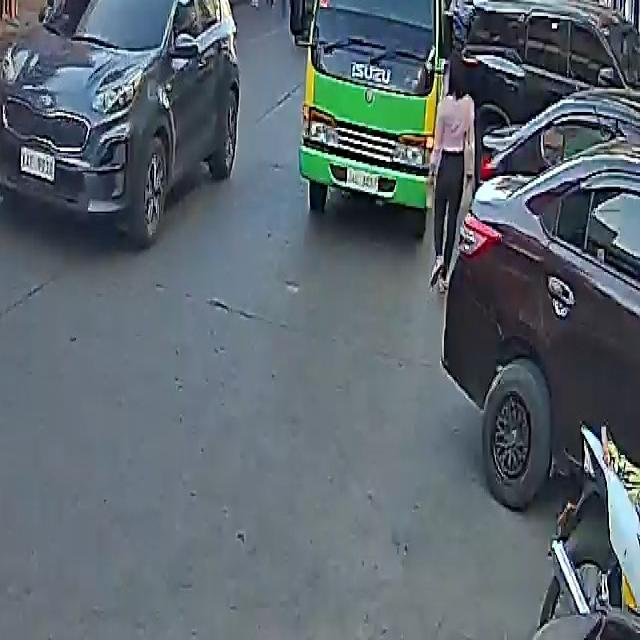car: (437, 73, 640, 530), (0, 0, 243, 245), (450, 0, 637, 149), (61, 0, 195, 28)
